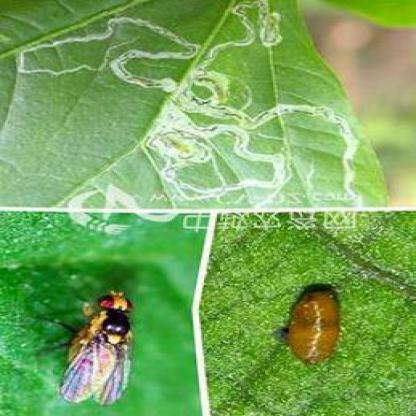whorl-maggot: (282, 282, 348, 372)
